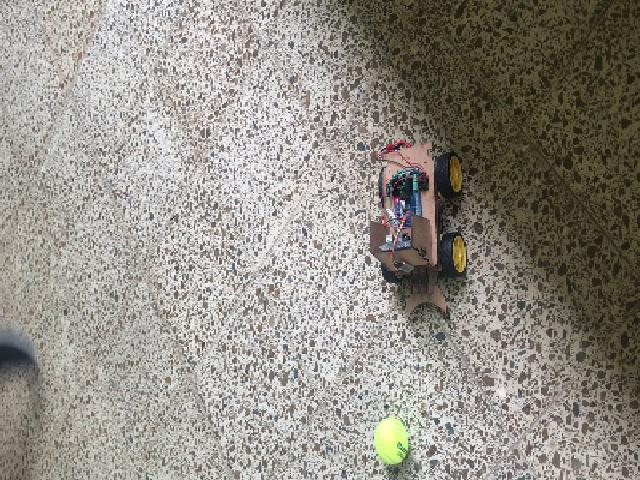Ball: (376, 418, 406, 464)
Robot: (370, 143, 466, 314)
